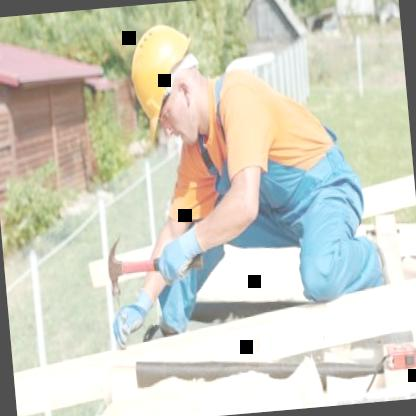helmet: (122, 22, 212, 156)
